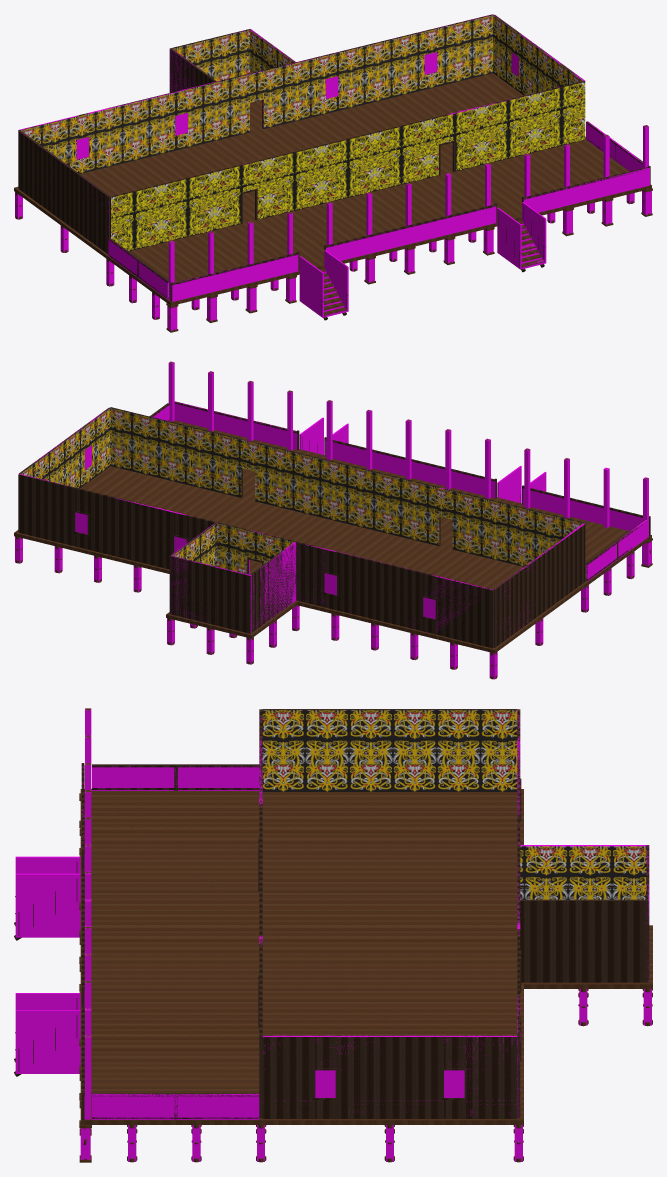
File: eksterior.glb
The picture shows the model from 3 angles, top to bottom: view 1: azimuth 30°, elevation 25°; view 2: azimuth 150°, elevation 25°; view 3: azimuth 270°, elevation 25°; orthographic projection. The views are drawn at different scales.
Visible parts, largest first — view 1: lantai_slab, dinding_depan_motif_usei_pos, dinding_belakang_motif_dalam_pos, dinding_kiri, dinding_kanan_motif_dalam_neg, col_pagar_depan_1, dinding_atang_belakang_motif_dalam_pos, col_rail_l (×2), col_pagar_depan_0, col_pagar_depan_2, col_rail_r (×2), pagar_kayu (+7 smaller); view 2: dinding_depan_motif_dalam_neg, dinding_belakang, lantai_slab, dinding_kiri, dinding_atang_belakang, dinding_kanan_motif_dalam_neg, dinding_atang_kiri, col_pagar_depan_1, dinding_belakang_motif_dalam_neg, col_dinding_atang_kiri_0, col_pagar_depan_2, col_pagar_depan_0 (+8 smaller); view 3: lantai_slab, dinding_kiri_motif_dalam_pos, dinding_kanan, dinding_atang_kanan, col_rail_r (×2), dinding_atang_kiri_motif_dalam_pos, col_pagar_kanan, col_pagar_kiri, col_rail_l (×2), dinding_depan, dinding_belakang, pagar_kayu (+3 smaller).
Part boxes in pixels (bbox=[...]): lantai_slab: bbox=[14, 73, 651, 305]; dinding_depan_motif_usei_pos: bbox=[111, 82, 585, 251]; dinding_belakang_motif_dalam_pos: bbox=[21, 15, 492, 173]; dinding_kiri: bbox=[18, 130, 110, 254]; dinding_kanan_motif_dalam_neg: bbox=[493, 15, 582, 95]; col_pagar_depan_1: bbox=[326, 205, 496, 260]; dinding_atang_belakang_motif_dalam_pos: bbox=[173, 30, 249, 81]; col_rail_l (×2): bbox=[299, 208, 521, 317]; col_pagar_depan_0: bbox=[172, 254, 298, 301]; col_pagar_depan_2: bbox=[523, 167, 649, 212]; col_rail_r (×2): bbox=[324, 202, 546, 311]; pagar_kayu: bbox=[170, 165, 650, 301]; dinding_depan_motif_dalam_neg: bbox=[110, 408, 582, 566]; dinding_belakang: bbox=[18, 474, 493, 648]; lantai_slab: bbox=[14, 420, 651, 653]; dinding_kiri: bbox=[494, 524, 585, 647]; dinding_atang_belakang: bbox=[169, 555, 251, 633]; dinding_kanan_motif_dalam_neg: bbox=[21, 408, 110, 488]; dinding_atang_kiri: bbox=[250, 542, 296, 632]; col_pagar_depan_1: bbox=[325, 439, 495, 498]; dinding_belakang_motif_dalam_neg: bbox=[217, 523, 293, 573]; col_dinding_atang_kiri_0: bbox=[253, 542, 296, 629]; col_pagar_depan_2: bbox=[174, 401, 297, 449]; col_pagar_depan_0: bbox=[522, 488, 642, 530]; lantai_slab: bbox=[80, 789, 523, 1124]; dinding_kiri_motif_dalam_pos: bbox=[262, 710, 517, 791]; dinding_kanan: bbox=[262, 1035, 517, 1118]; dinding_atang_kanan: bbox=[520, 899, 646, 982]; col_rail_r (×2): bbox=[15, 873, 80, 1073]; dinding_atang_kiri_motif_dalam_pos: bbox=[520, 846, 646, 899]; col_pagar_kanan: bbox=[92, 1093, 259, 1119]; col_pagar_kiri: bbox=[92, 765, 259, 790]; col_rail_l (×2): bbox=[15, 856, 80, 1009]; dinding_depan: bbox=[259, 709, 262, 1118]; dinding_belakang: bbox=[517, 709, 520, 1118]; pagar_kayu: bbox=[81, 763, 84, 1119].
Size of the model in its own units: 30.49 by 5.52 by 24.78.
19 materials, 12 textured.
